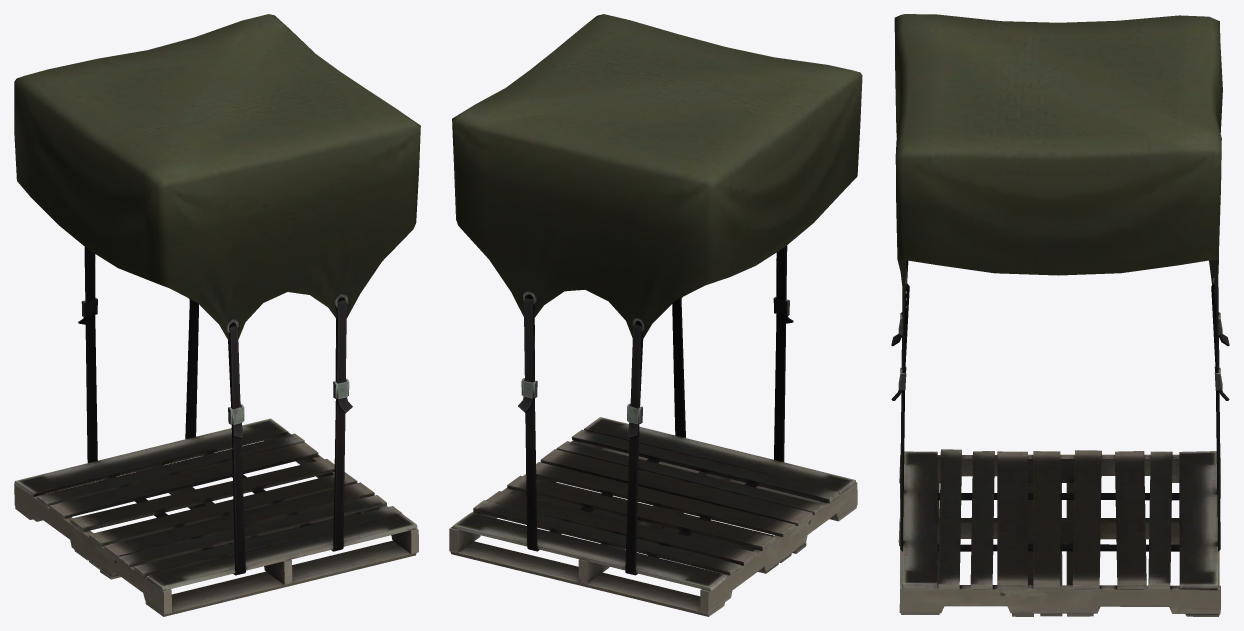
The picture shows the model from 3 angles, left to right: view 1: azimuth 30°, elevation 25°; view 2: azimuth 150°, elevation 25°; view 3: azimuth 270°, elevation 25°; orthographic projection. The views are drawn at different scales.
Visible parts, largest first — view 1: body0_model0_lod0_mesh0; view 2: body0_model0_lod0_mesh0; view 3: body0_model0_lod0_mesh0.
Part boxes in pixels (x1,y1,x2,y2): body0_model0_lod0_mesh0: (14,14,420,616); body0_model0_lod0_mesh0: (449,14,862,616); body0_model0_lod0_mesh0: (891,14,1229,616).
Bounding box in the file's own units: 77.58 × 123 × 80.22.
1 material, 1 textured.
